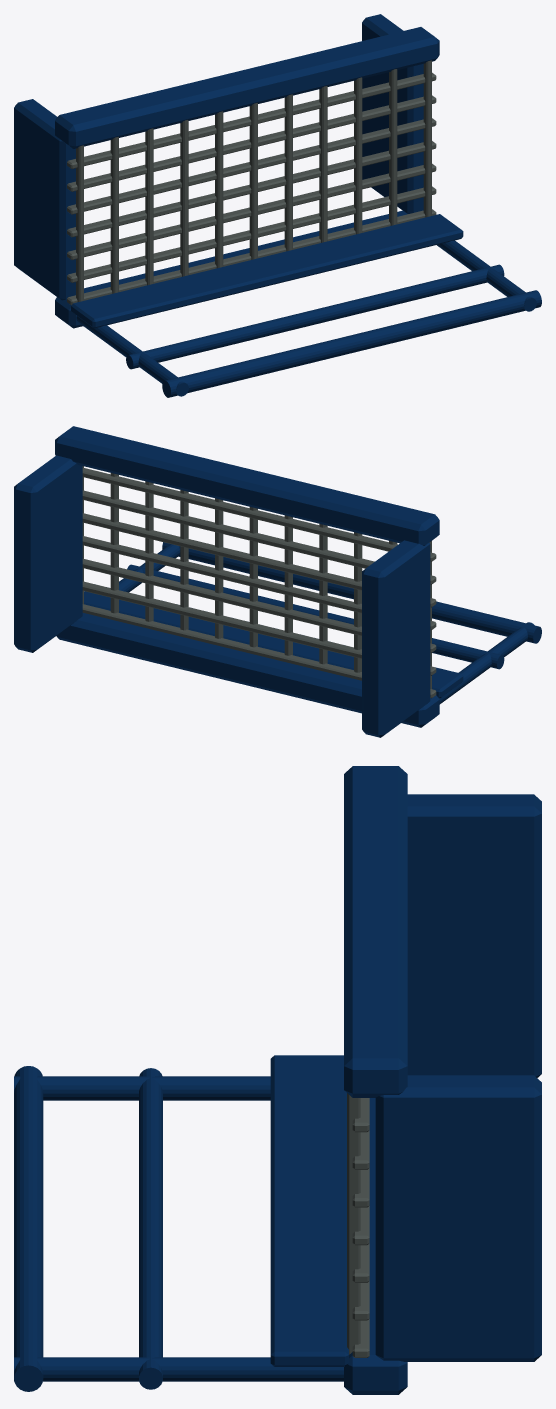
The model's file is walkway.obj.
3 renders of one model, top to bottom at view 1: azimuth 30°, elevation 25°; view 2: azimuth 150°, elevation 25°; view 3: azimuth 270°, elevation 25°, orthographic. The views are drawn at different scales.
Size of the model in its own units: 1.45 by 0.76 by 1.08.
